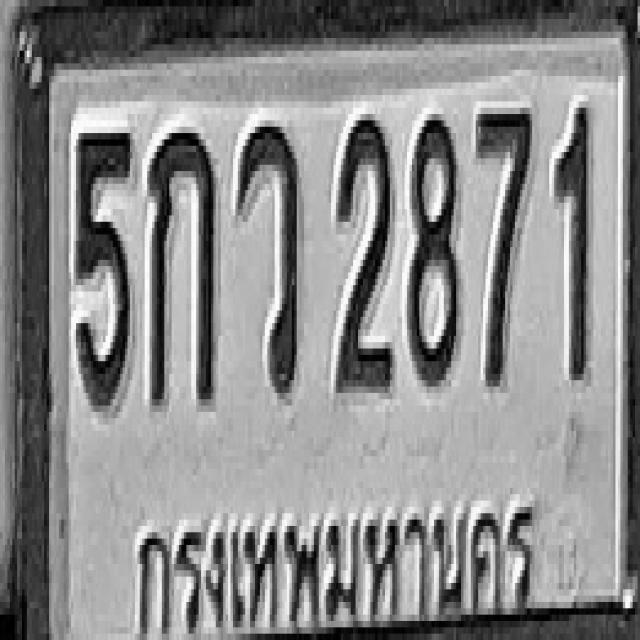1: (555, 102, 590, 380)
10GorGai: (148, 127, 214, 406)
2: (336, 114, 392, 393)
46WorWaen: (237, 124, 300, 396)
5: (75, 130, 131, 409)
7: (476, 101, 532, 386)
8: (407, 114, 459, 387)
Bangkok: (128, 494, 540, 639)
